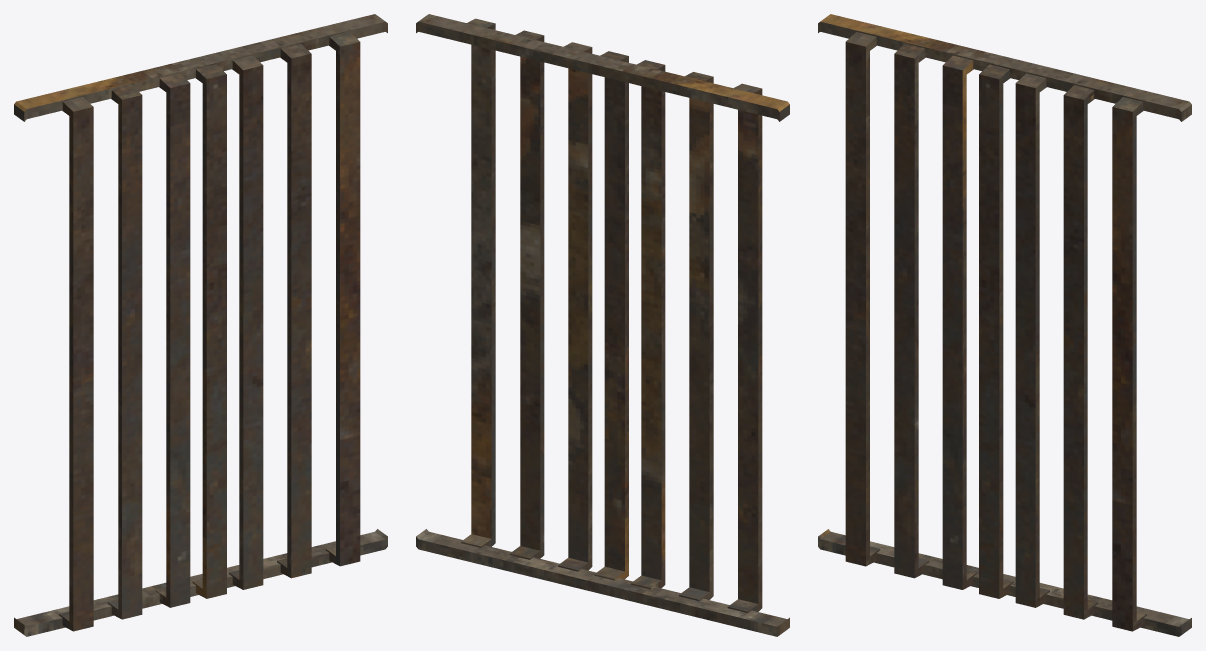
The model's file is window_bars.fbx.
3 views of the same model, side by side, from view 1: azimuth 30°, elevation 25°; view 2: azimuth 150°, elevation 25°; view 3: azimuth 330°, elevation 25° (orthographic).
Parts seen in each view (by area): view 1: Plane; view 2: Plane; view 3: Plane.
Boxes of the visible parts, left/top/right/bottom form: Plane: left=14, top=14, right=387, bottom=636; Plane: left=416, top=14, right=789, bottom=636; Plane: left=818, top=14, right=1191, bottom=636.
Bounding box in the file's own units: 180 × 250 × 18.1.
